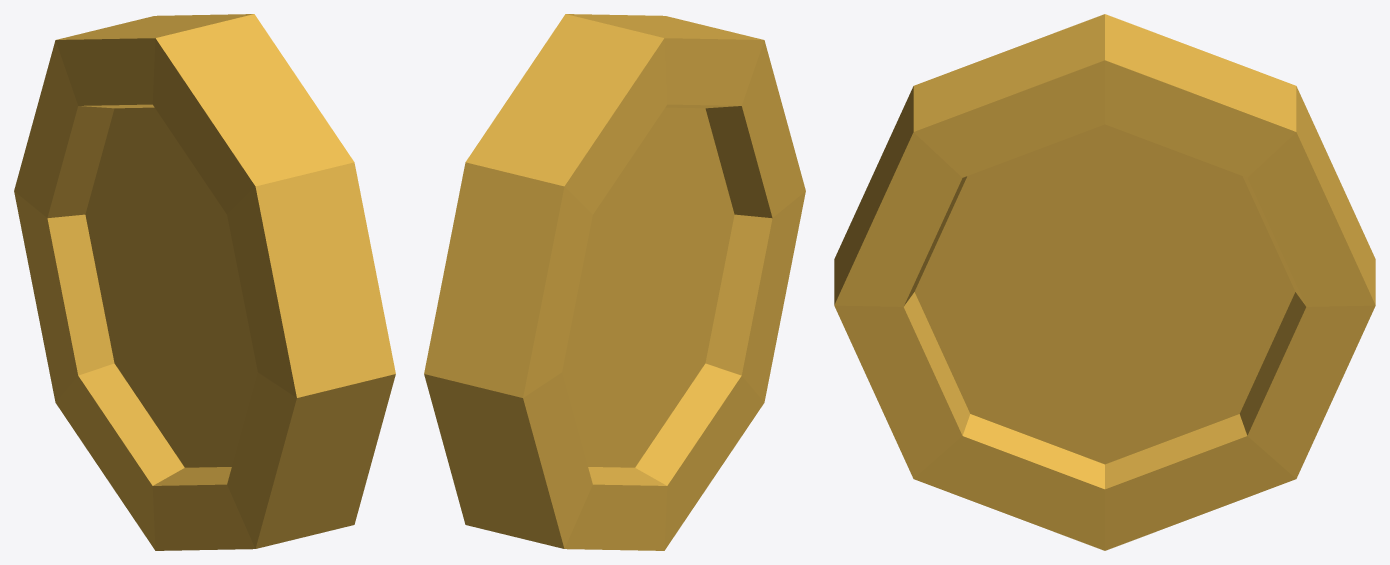
Rendered from coin.fbx.
3 views of the same model, side by side, from view 1: azimuth 30°, elevation 25°; view 2: azimuth 150°, elevation 25°; view 3: azimuth 270°, elevation 25° (orthographic). The views are drawn at different scales.
Visible parts, largest first — view 1: coin; view 2: coin; view 3: coin.
Boxes of the visible parts, left/top/right/bottom form: coin: left=14, top=14, right=395, bottom=550; coin: left=424, top=14, right=805, bottom=550; coin: left=834, top=14, right=1375, bottom=550.
Size of the model in its own units: 23.71 by 111 by 111.
